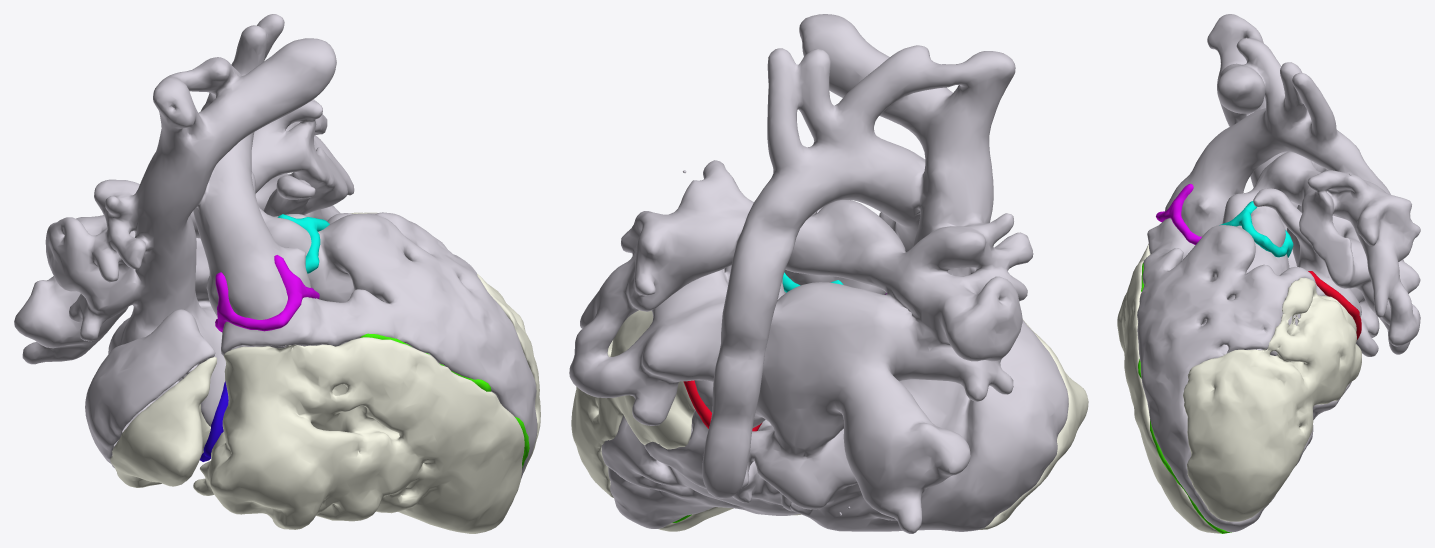
Rendered from DIRV, DORV.gltf.
3 views of the same model, side by side, from view 1: azimuth 30°, elevation 25°; view 2: azimuth 150°, elevation 25°; view 3: azimuth 270°, elevation 25° (orthographic). The views are drawn at different scales.
Visible parts, largest first — view 1: heart, resected, aov, pv, tv; view 2: heart, resected; view 3: heart, resected, pv, aov, mv, vsd.
Boxes of the visible parts, x1,y1,x2,y2 form: heart: (14, 14, 537, 478); resected: (110, 212, 540, 533); aov: (215, 255, 319, 332); pv: (277, 214, 329, 273); tv: (200, 381, 228, 461); heart: (569, 14, 1068, 533); resected: (571, 310, 1088, 531); heart: (1137, 14, 1420, 532); resected: (1117, 244, 1361, 533); pv: (1219, 201, 1293, 257); aov: (1156, 184, 1201, 244); mv: (1308, 271, 1361, 339); vsd: (1138, 263, 1231, 533).
Size of the model in its own units: 82.61 by 93.17 by 63.65.
